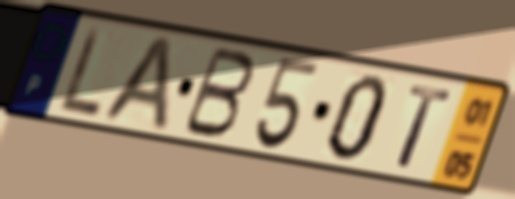0: (324, 72, 393, 165)
5: (251, 55, 323, 153)
A: (95, 33, 175, 136)
B: (178, 43, 259, 141)
L: (57, 22, 106, 119)
T: (394, 81, 455, 172)
